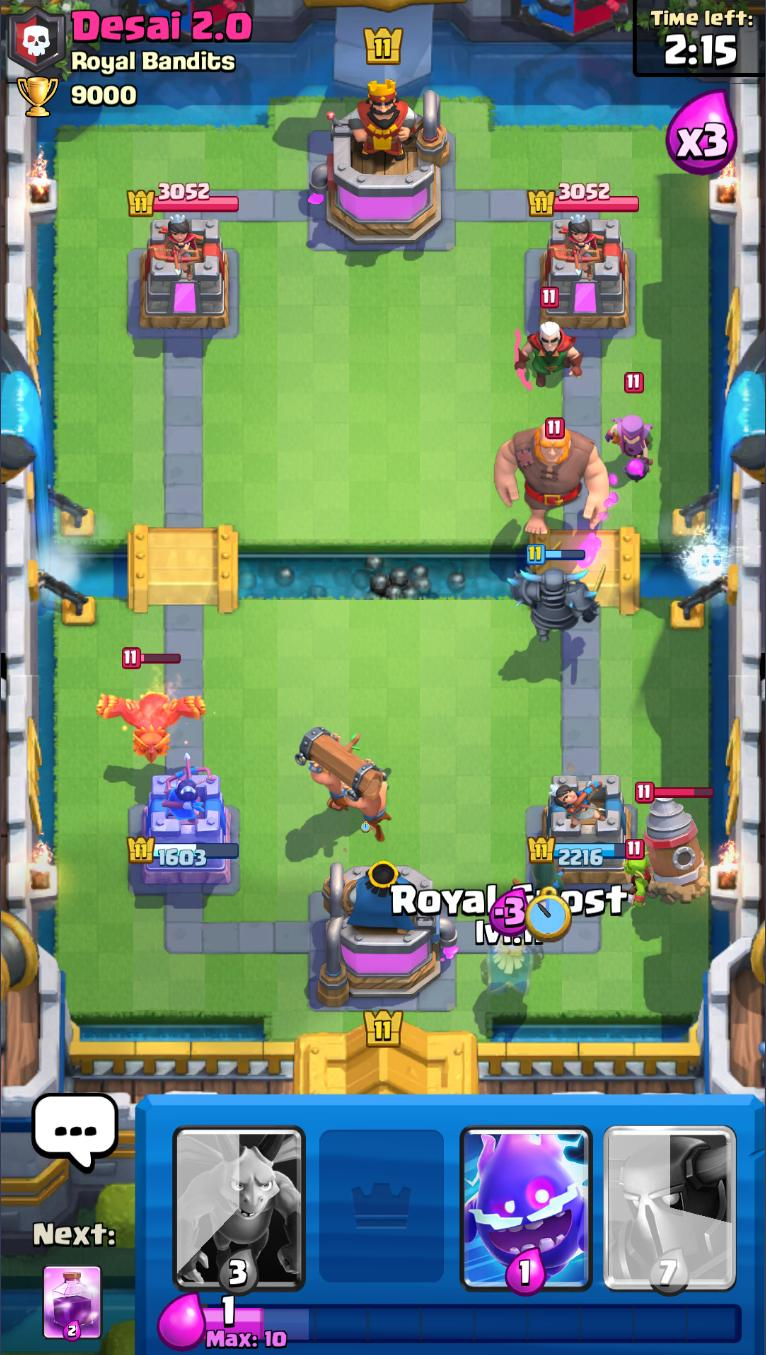ElectroSpiritDeck: (454, 1096, 600, 1296)
Elixir: (203, 1294, 744, 1351)
Empty: (313, 1099, 451, 1297)
EnemyTower: (136, 214, 234, 334), (539, 214, 633, 333)
Giant: (494, 416, 611, 536)
Goblin: (621, 834, 654, 906)
GoblinDrill: (636, 780, 713, 904)
KingTower: (309, 79, 454, 250)
MagicArcher: (514, 286, 587, 396)
MinionsDeck: (166, 1096, 311, 1294)
MotherWitch: (604, 371, 653, 483)
MyBandit: (513, 857, 567, 906)
MyBattleRam: (294, 724, 391, 844)
MyKingTower: (314, 859, 460, 1011)
MyPekka: (507, 539, 607, 641)
MyPrincessTower: (124, 770, 240, 893), (527, 771, 641, 889)
MyPrincessTowerHP: (124, 834, 241, 867), (526, 834, 641, 866)
PekkaDeck: (597, 1094, 741, 1299)
Phoenix: (93, 646, 210, 763)
PrincessTower: (147, 217, 206, 266), (550, 217, 604, 266)
RageNext: (41, 1264, 103, 1343)
TowerPrincessHP: (127, 181, 240, 217), (530, 183, 641, 217)
